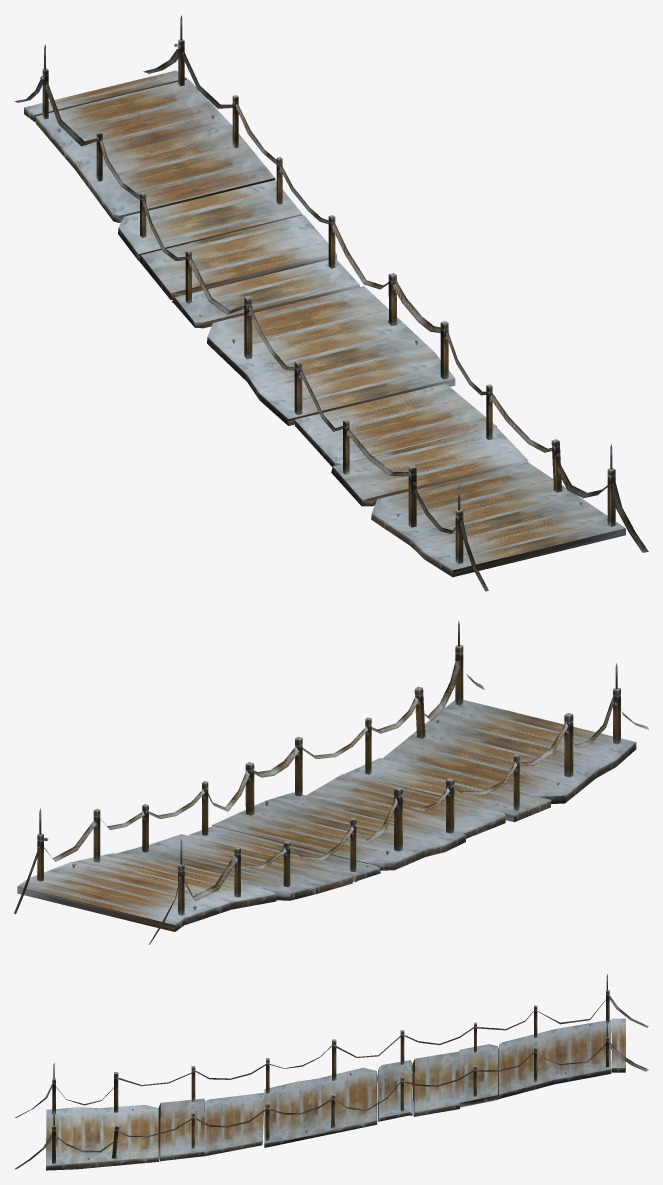
File: rzjd4_diaoqiao.FBX
The picture shows the model from 3 angles, top to bottom: view 1: azimuth 30°, elevation 25°; view 2: azimuth 150°, elevation 25°; view 3: azimuth 270°, elevation 25°; orthographic projection. The views are drawn at different scales.
Parts seen in each view (by area): view 1: rzjd4_diaoqiao; view 2: rzjd4_diaoqiao; view 3: rzjd4_diaoqiao.
Boxes of the visible parts, left/top/right/bottom form: rzjd4_diaoqiao: left=14, top=15, right=648, bottom=591; rzjd4_diaoqiao: left=14, top=620, right=648, bottom=944; rzjd4_diaoqiao: left=14, top=974, right=648, bottom=1170.
Size of the model in its own units: 414 by 486 by 1910.
